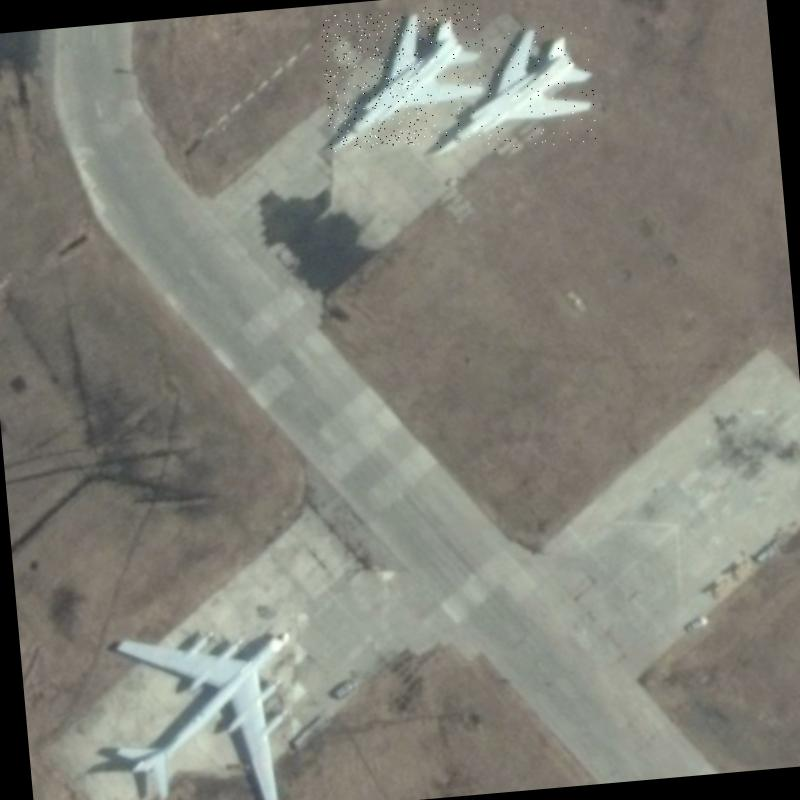A12: (320, 3, 490, 152), (420, 20, 600, 156)
A17: (101, 620, 306, 800)
